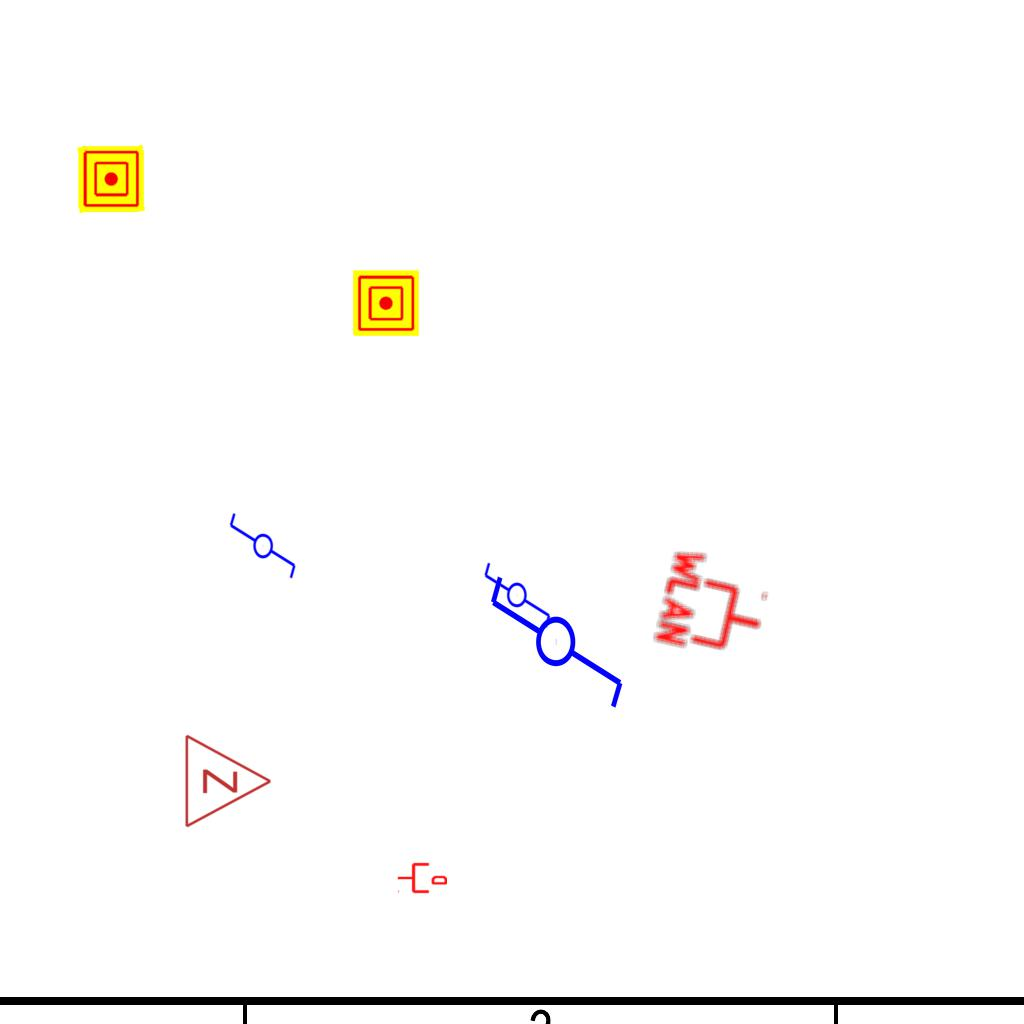Datenanschluss_einfach: (397, 861, 447, 895)
NAM-Nichtautomatischer_Melder: (77, 145, 145, 213), (353, 270, 419, 336)
WLAN: (651, 542, 778, 668)
Wechselschalter: (486, 555, 630, 712), (482, 552, 554, 630), (226, 511, 298, 589)
Zimmersignalleuchte: (178, 731, 278, 829)
